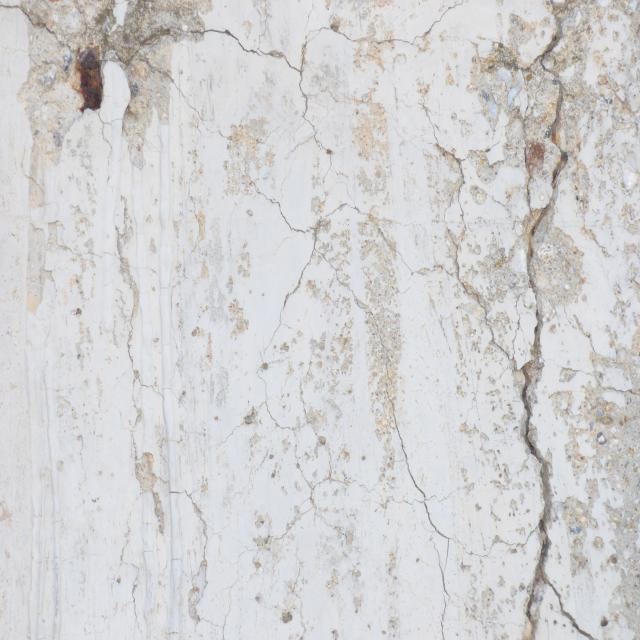corrosion: (61, 36, 125, 131), (515, 128, 555, 182)
